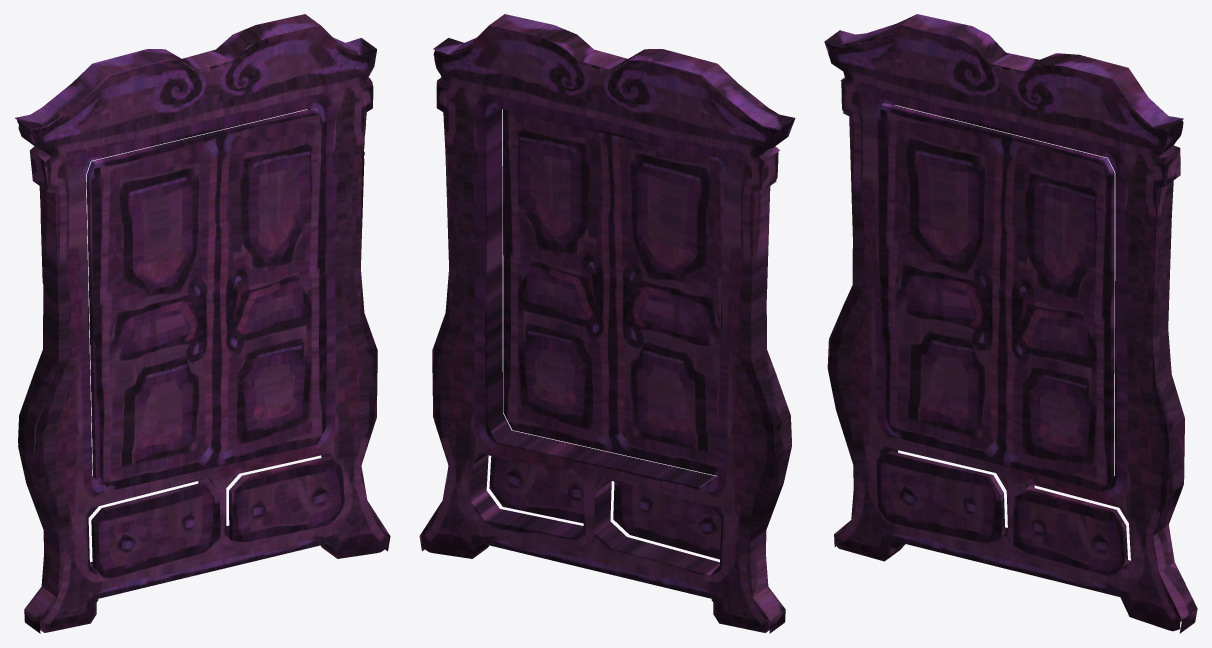
Rendered from Closet.fbx.
3 renders of one model, left to right at view 1: azimuth 30°, elevation 25°; view 2: azimuth 150°, elevation 25°; view 3: azimuth 330°, elevation 25°, orthographic.
Visible parts, largest first — view 1: Closet.001, Closet.002, Closet.003; view 2: Closet.001, Closet.002, Closet.003; view 3: Closet.001, Closet.002, Closet.003.
Boxes of the visible parts, x1,y1,x2,y2 form: Closet.001: (15, 14, 390, 633); Closet.002: (86, 107, 326, 490); Closet.003: (91, 456, 344, 579); Closet.001: (419, 14, 795, 633); Closet.002: (503, 109, 723, 475); Closet.003: (489, 456, 721, 559); Closet.001: (824, 14, 1197, 633); Closet.002: (876, 103, 1114, 491); Closet.003: (876, 451, 1128, 576).
Size of the model in its own units: 66.4 by 96.12 by 6.88.
